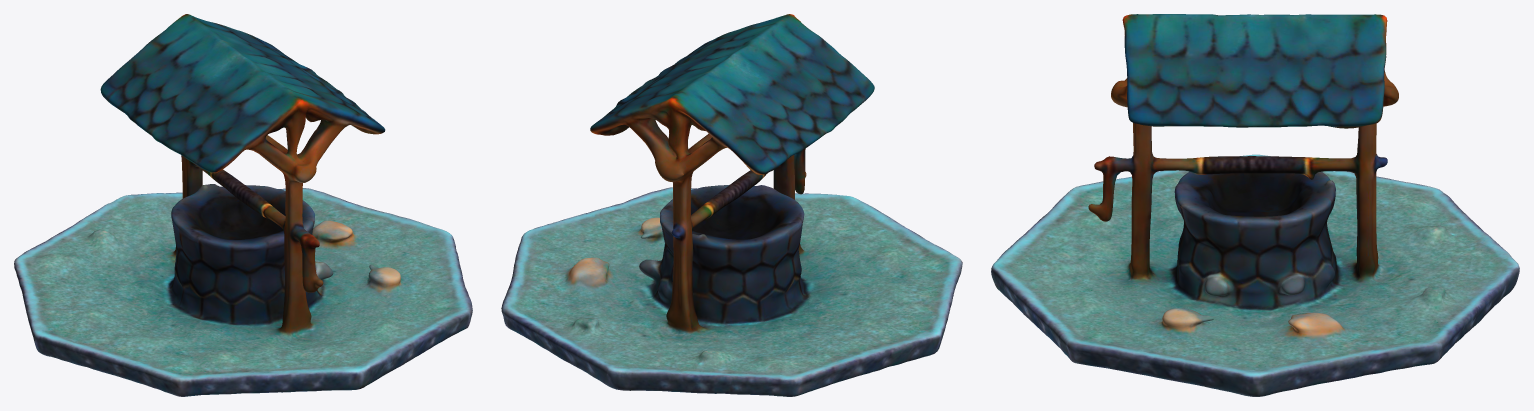
The model's file is low_poly_hexagonal_well.glb.
3 views of the same model, side by side, from view 1: azimuth 30°, elevation 25°; view 2: azimuth 150°, elevation 25°; view 3: azimuth 270°, elevation 25° (orthographic). The views are drawn at different scales.
Visible parts, largest first — view 1: geometry_0; view 2: geometry_0; view 3: geometry_0.
Part boxes in pixels (x1,y1,x2,y2): geometry_0: [14, 14, 472, 396]; geometry_0: [501, 14, 962, 396]; geometry_0: [991, 14, 1519, 396].
Bounding box in the file's own units: 0.552 × 0.3172 × 0.5519.
Materials: 1 (1 with a texture image).
